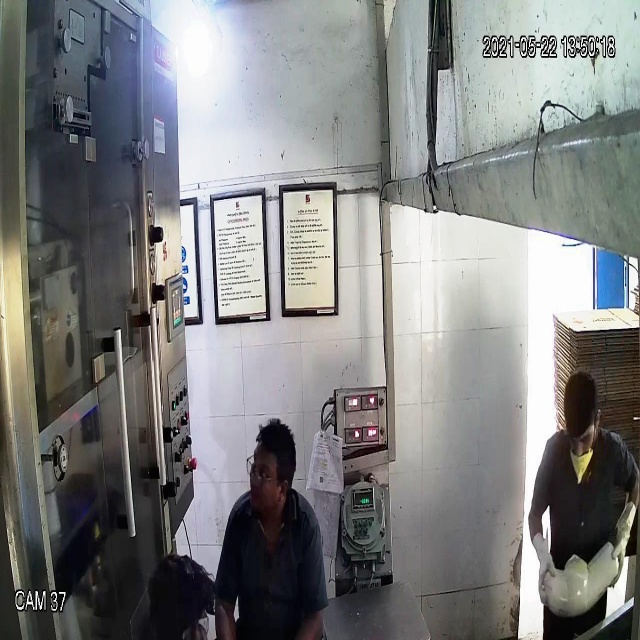Gafas: (244, 452, 292, 492)
